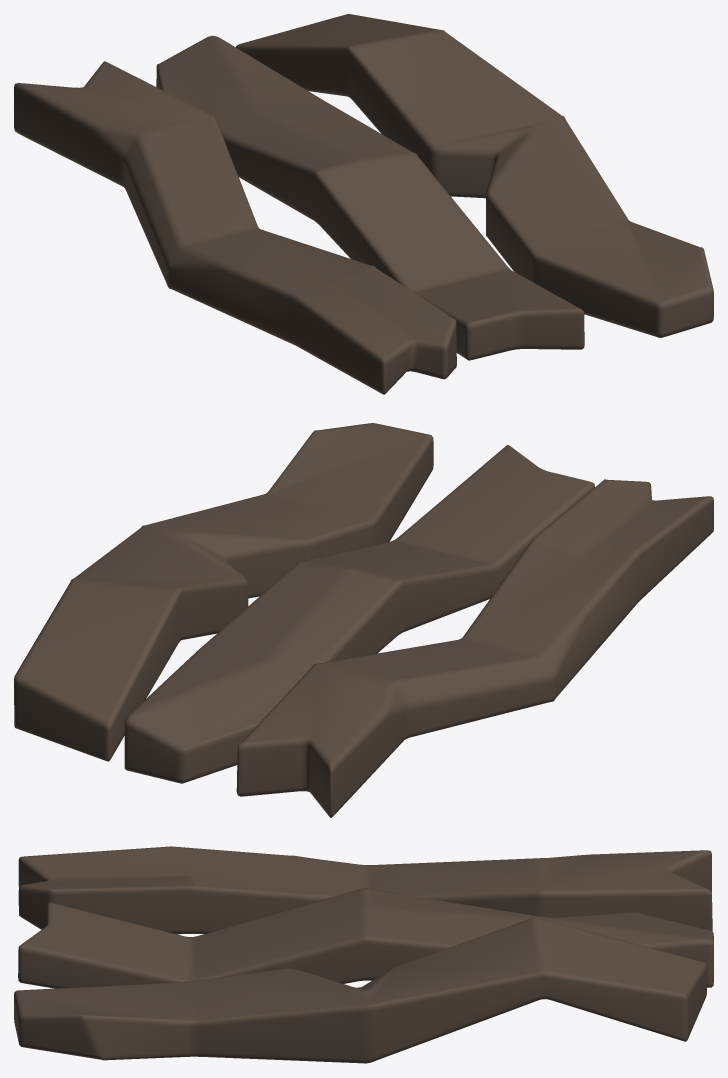
Rendered from Tile_Empty_Planks.fbx.
3 renders of one model, top to bottom at view 1: azimuth 30°, elevation 25°; view 2: azimuth 150°, elevation 25°; view 3: azimuth 270°, elevation 25°, orthographic. The views are drawn at different scales.
Parts seen in each view (by area): view 1: Cube; view 2: Cube; view 3: Cube.
Boxes of the visible parts, box(x1,y1,x2,y2) form: Cube: box(14, 14, 713, 394); Cube: box(14, 423, 713, 817); Cube: box(14, 846, 713, 1063).
Bounding box in the file's own units: 110 × 30.33 × 178.
Materials: 1 (1 with a texture image).
